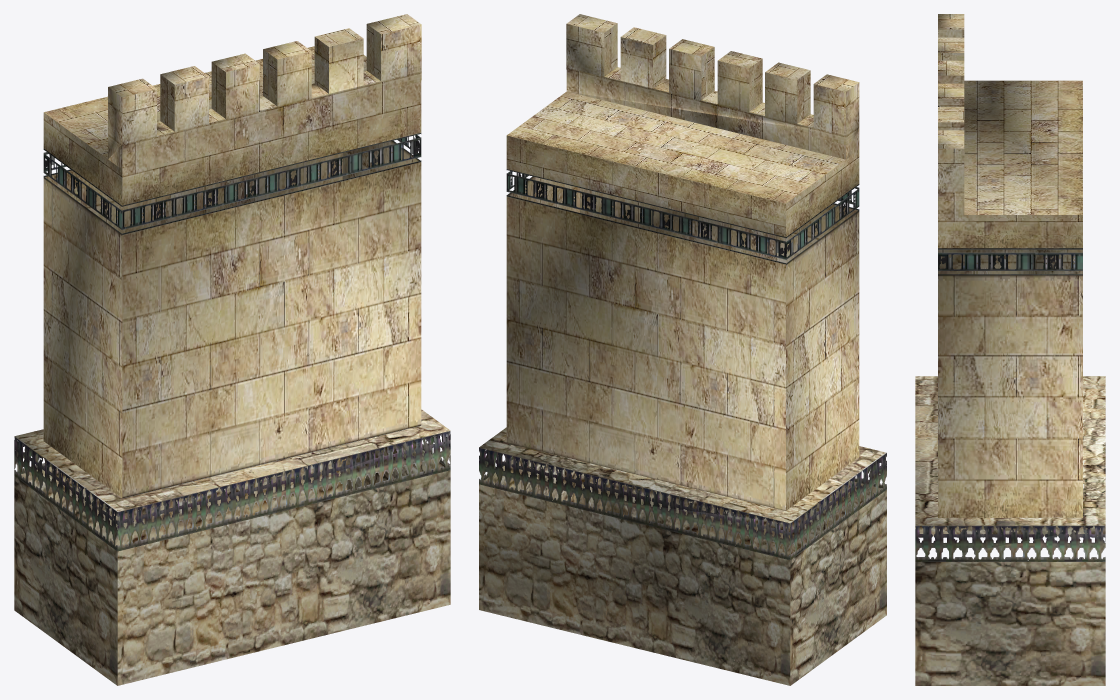
The model's file is kart_wall_short.dae.
3 renders of one model, left to right at view 1: azimuth 30°, elevation 25°; view 2: azimuth 150°, elevation 25°; view 3: azimuth 270°, elevation 25°, orthographic. The views are drawn at different scales.
Visible parts, largest first — view 1: Box01; view 2: Box01; view 3: Box01.
Part boxes in pixels (x1,y1,x2,y2): Box01: (14,14,450,685); Box01: (479,14,886,685); Box01: (915,14,1105,685).
Size of the model in its own units: 9.74 by 5.23 by 16.08.
